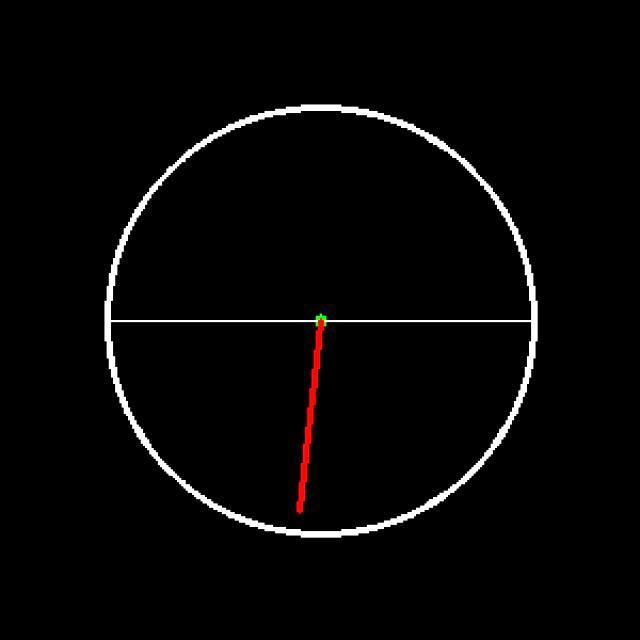Needle_Tip: (276, 469, 340, 542)
Needle_base: (293, 293, 351, 369)
